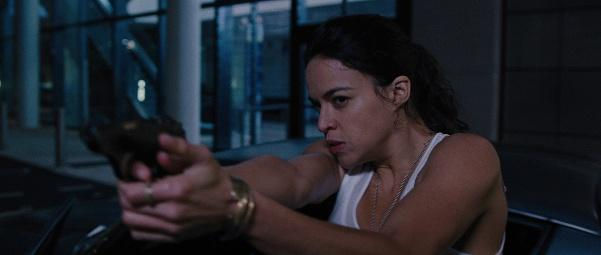Gun: (82, 116, 189, 180)
